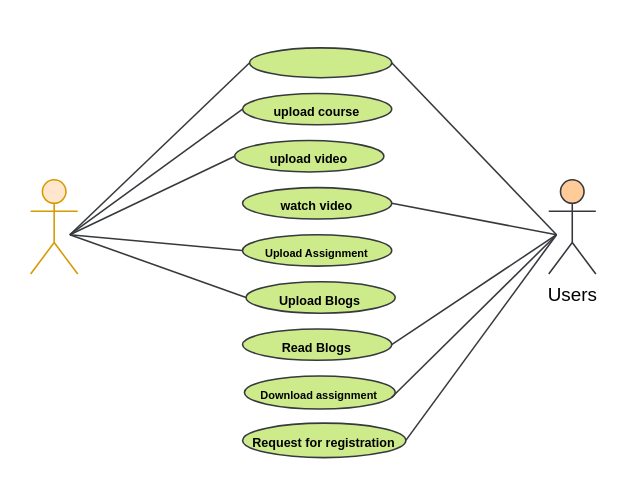
Some shapes in this 623 by 502 pixel diagram are drawn without their labels. The centre of each missing label's shape, as x and y in pixels:
"Admin" belongs at (x=53, y=226).
"login" belongs at (x=320, y=62).
